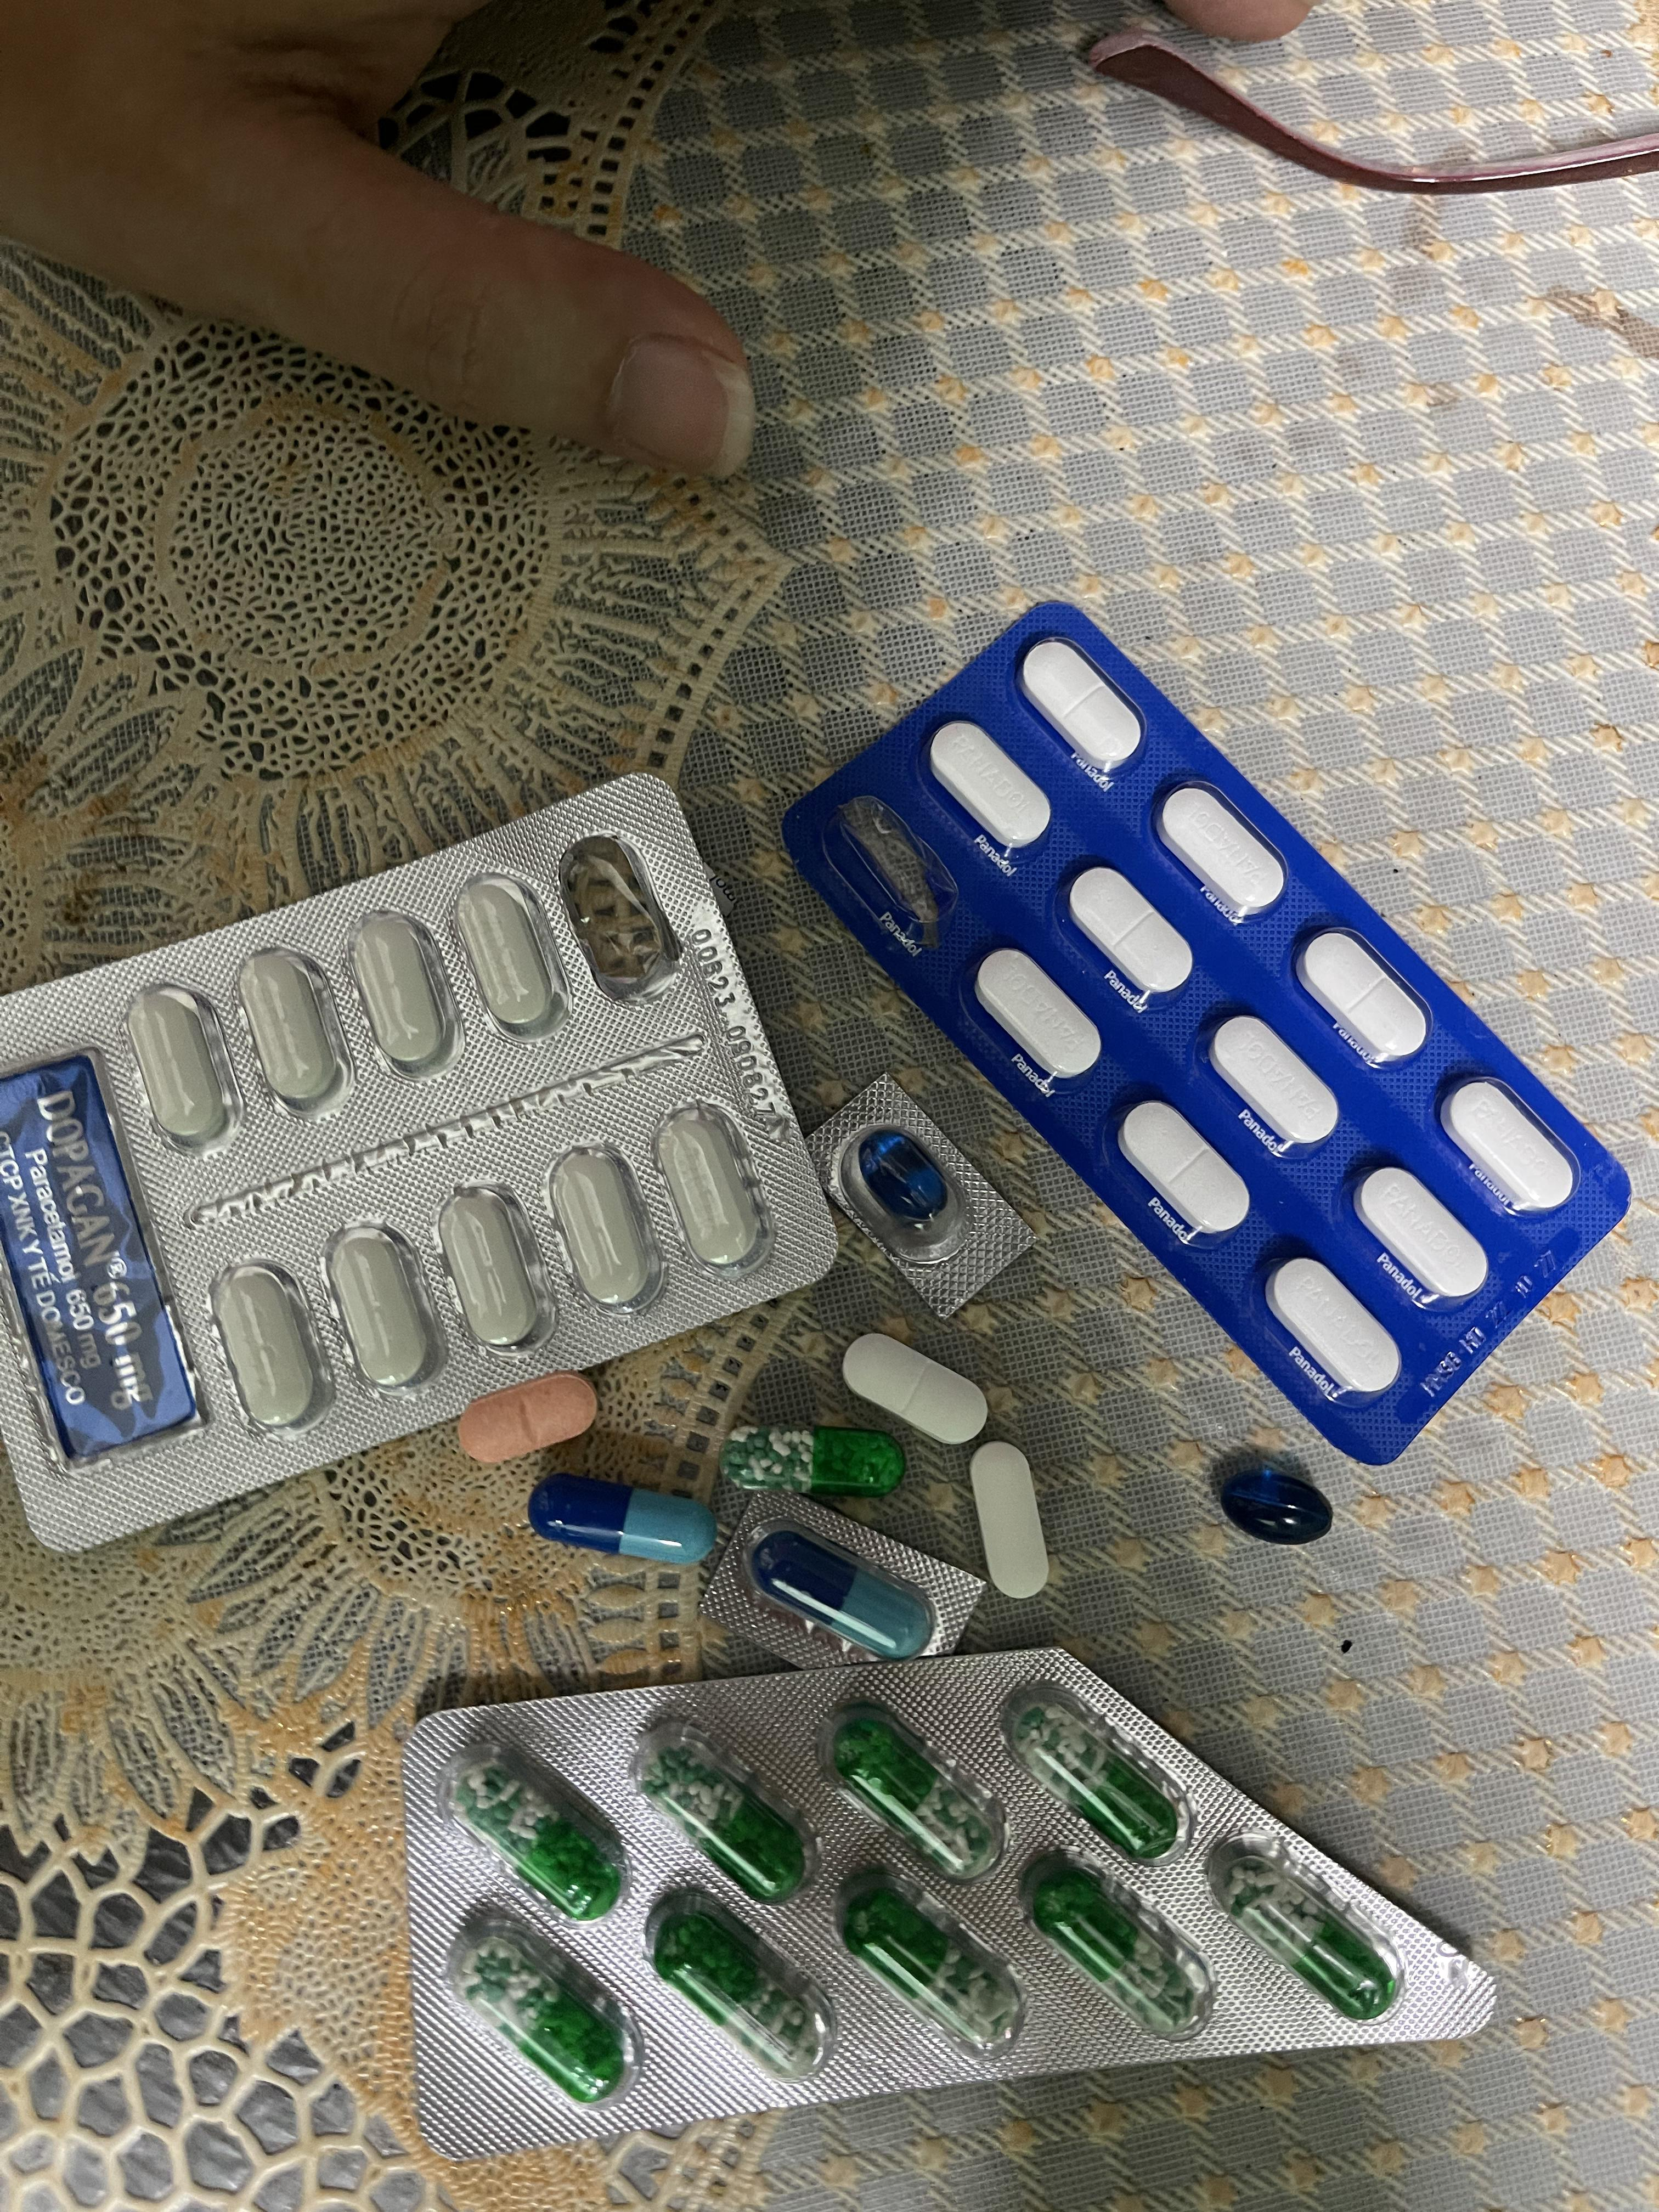Lincomyxin_500mg: (1222, 1467, 1335, 1547), (859, 1132, 950, 1223)
Loratadine_10mg: (457, 1369, 598, 1461)
Paracetamol_350mg: (1267, 1258, 1403, 1400), (1441, 1076, 1581, 1212), (1352, 1163, 1488, 1301), (1297, 927, 1431, 1066), (1155, 787, 1286, 927), (1209, 1015, 1338, 1151), (1121, 1103, 1246, 1238), (842, 1331, 990, 1444), (974, 948, 1094, 1080), (929, 721, 1049, 852), (1070, 866, 1187, 996), (1025, 639, 1140, 768)
Paracetamol_500mg: (209, 1261, 333, 1440), (652, 1103, 772, 1282), (324, 1223, 444, 1399), (437, 1184, 556, 1359), (235, 944, 354, 1118), (125, 981, 242, 1151), (547, 1144, 664, 1313), (347, 911, 462, 1082), (453, 873, 570, 1040), (969, 1440, 1047, 1599)
Paracetamol_650mg: (448, 1904, 640, 2107), (641, 1885, 838, 2080), (1211, 1836, 1398, 2026), (842, 1871, 1033, 2054), (1021, 1848, 1199, 2043), (634, 1714, 821, 1898), (443, 1740, 627, 1921), (823, 1700, 1007, 1879), (1007, 1679, 1176, 1860), (718, 1425, 904, 1498)
pill: (742, 1522, 938, 1665), (530, 1474, 718, 1566)
